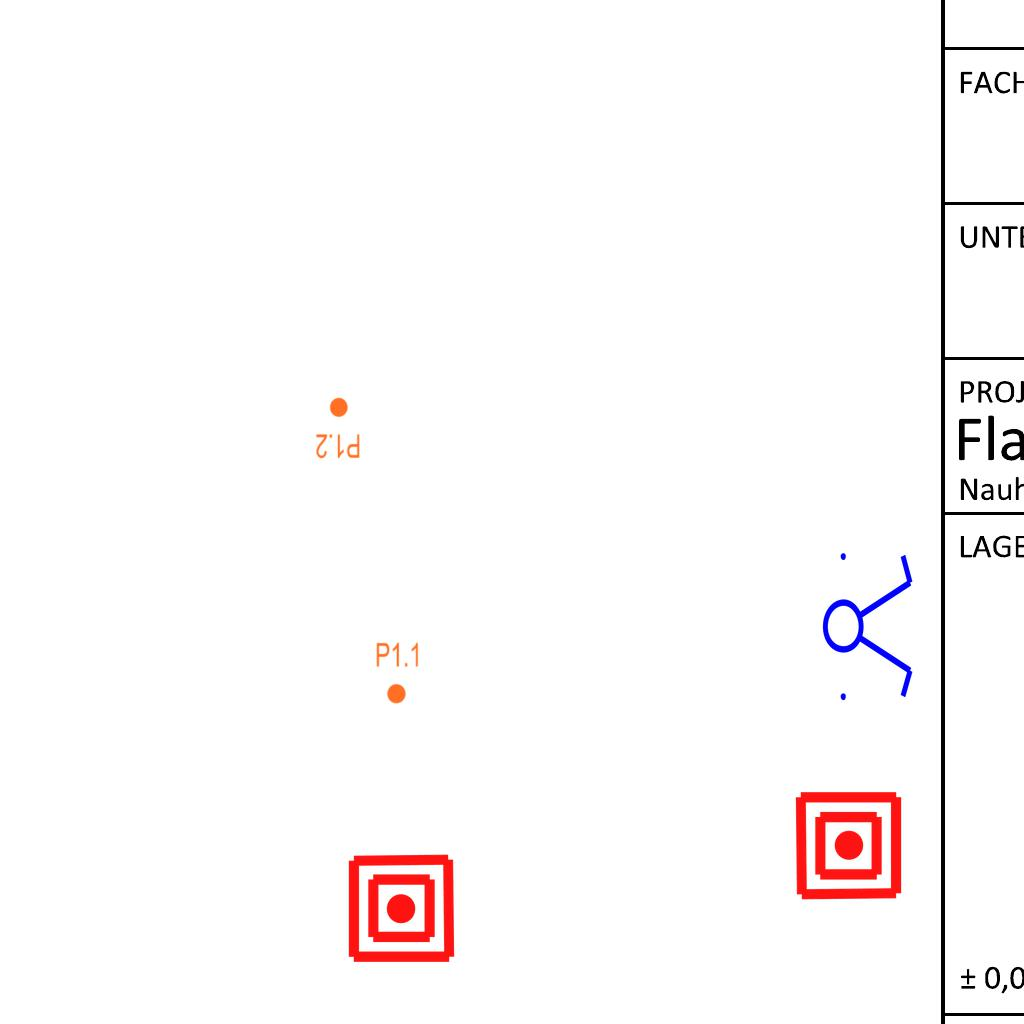Downlight_LED_Einbauleuchten_Flur: (375, 641, 421, 705), (315, 396, 361, 460)
NAM-Nichtautomatischer_Melder: (345, 852, 458, 965), (792, 789, 905, 902)
Serienschalter: (821, 541, 917, 709)
